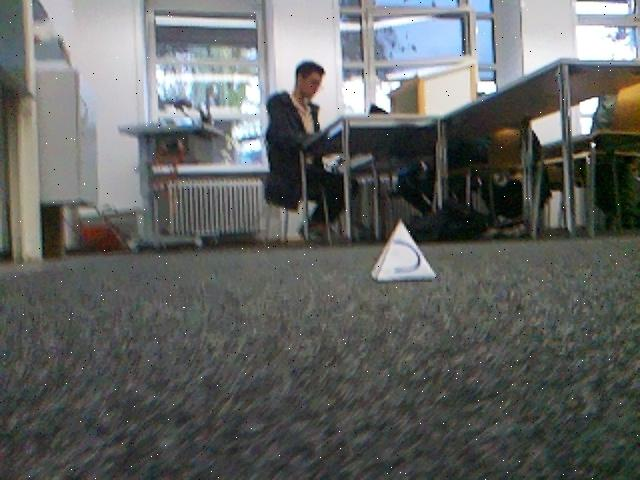C: (370, 220, 435, 284)
